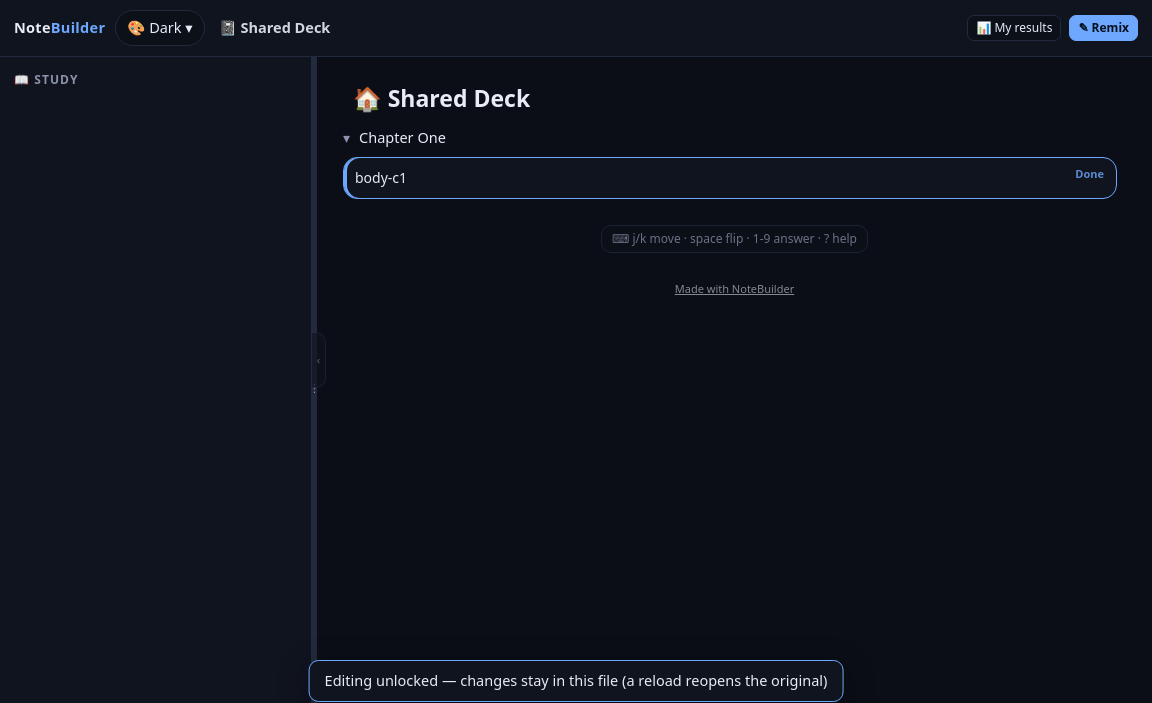
Reader — Remix (D10) › switching to Edit after Remix exposes the author lock button on a section
The width and height of the screenshot is (1152, 703).
Click the button "✎ Remix". click: (1104, 28)
box: [1069,15,1138,41]
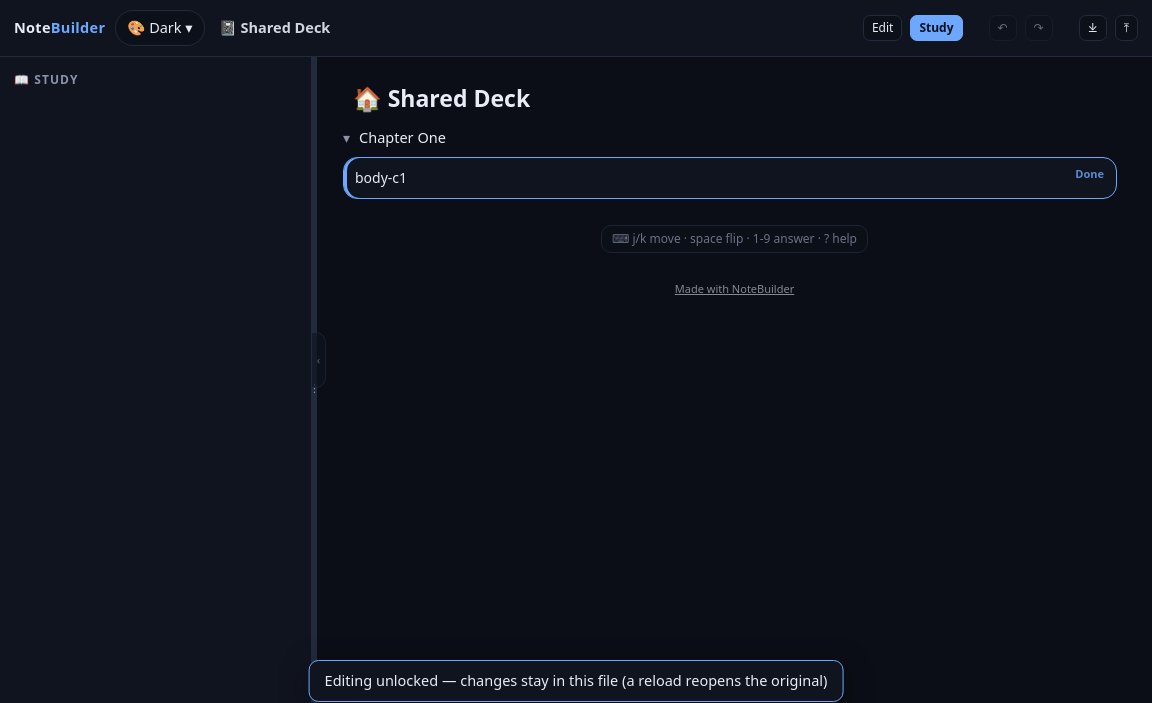
Click the button "Edit". click: (883, 28)
box: [863,15,902,41]
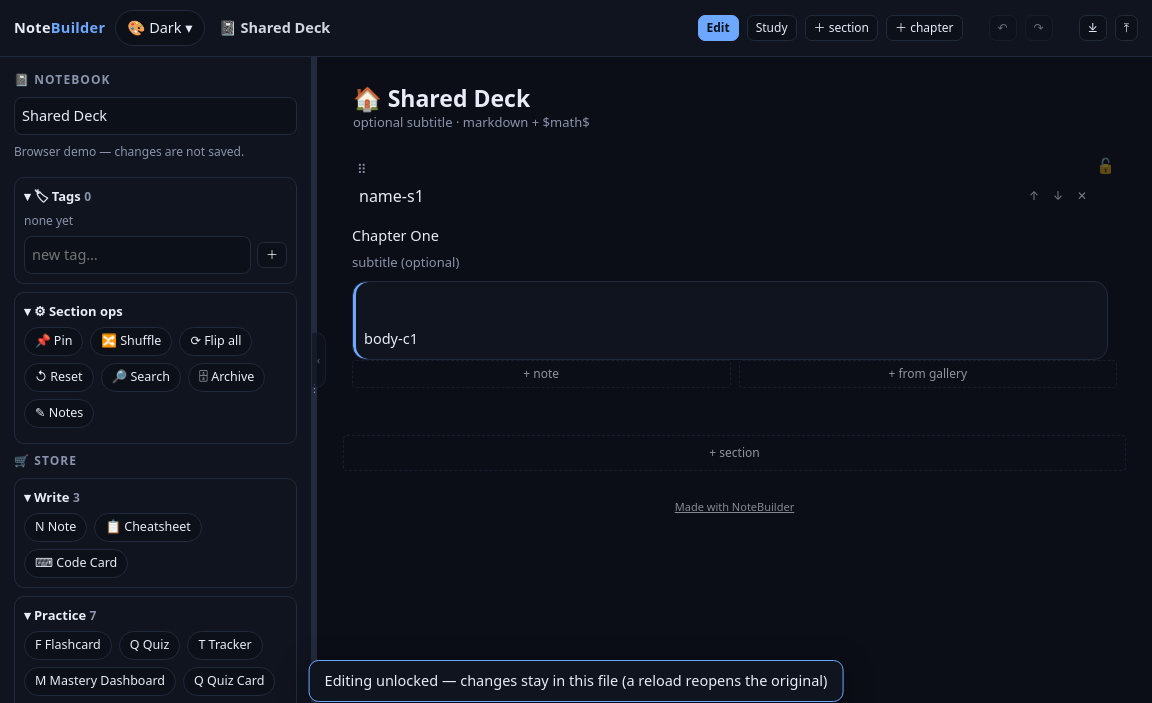
Now the element with class "edit" is shown, box [343,149,1126,409]
Now the button with class "room-lock" is shown, box [1094,156,1117,175]
